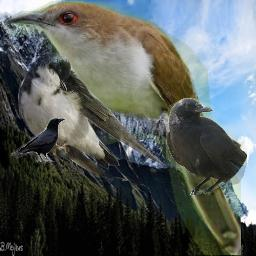Crow: (166, 98, 247, 195), (11, 118, 65, 162)
Cuckoo: (4, 1, 241, 255)
Swallow: (15, 51, 167, 178)
